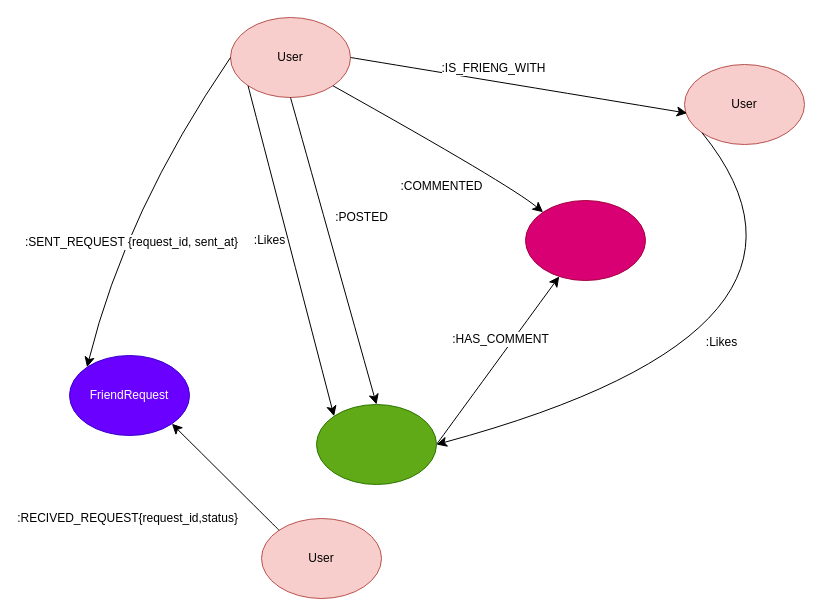
Image size: 823x616. Some labels were removed from this diagram. Each missing label, with the centre of its shape:
"Comment" goes at point 585,240.
"POST" goes at point 376,444.
